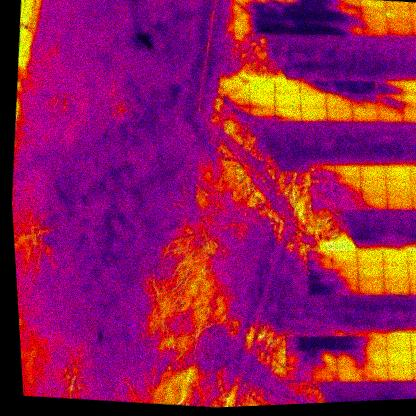Diode: (384, 8, 411, 25)
Hotspot: (333, 177, 363, 197), (309, 177, 337, 197), (308, 163, 336, 181)
Normal: (386, 362, 415, 383), (355, 261, 385, 281), (382, 277, 411, 297), (359, 177, 388, 197), (333, 162, 362, 182), (358, 163, 387, 183), (335, 365, 364, 385), (385, 191, 414, 210), (383, 333, 412, 352), (298, 104, 328, 122), (330, 247, 358, 266), (360, 192, 388, 211), (385, 348, 413, 367), (357, 277, 384, 296), (382, 262, 409, 281), (350, 106, 380, 123), (385, 178, 413, 196), (248, 90, 276, 108), (359, 8, 387, 26), (325, 105, 354, 122), (298, 91, 327, 108), (384, 165, 411, 183), (274, 90, 302, 107), (248, 78, 276, 95), (273, 77, 301, 94), (381, 248, 407, 266), (386, 21, 413, 38), (361, 21, 389, 37), (357, 248, 383, 265), (359, 0, 386, 13), (398, 78, 416, 97), (400, 106, 416, 124), (407, 167, 416, 183), (408, 9, 416, 26), (410, 23, 416, 38)
Shadow: (334, 347, 365, 369), (307, 276, 336, 299), (309, 347, 339, 369), (284, 347, 313, 369), (303, 247, 333, 268), (360, 362, 389, 383), (334, 333, 364, 353), (285, 364, 313, 385), (309, 365, 338, 385), (272, 103, 302, 122), (323, 90, 353, 109), (310, 192, 338, 212), (284, 333, 312, 353), (305, 262, 334, 281), (248, 104, 277, 123), (350, 91, 379, 110), (309, 333, 338, 352), (333, 276, 360, 296), (374, 90, 402, 109), (258, 17, 286, 36), (336, 19, 364, 38), (221, 103, 250, 121), (376, 105, 405, 123), (297, 78, 326, 96), (309, 20, 338, 38), (332, 261, 359, 280), (335, 192, 362, 211), (374, 77, 402, 95), (258, 4, 286, 22), (324, 78, 353, 95), (223, 90, 250, 108), (284, 18, 311, 36), (234, 5, 261, 23), (361, 348, 387, 366), (360, 333, 386, 351), (309, 7, 338, 23), (223, 77, 250, 94), (350, 78, 377, 95), (335, 7, 362, 24), (233, 18, 260, 34), (285, 5, 311, 21), (335, 0, 362, 12), (399, 93, 416, 111), (310, 0, 337, 11), (233, 0, 260, 9), (259, 0, 288, 8), (286, 0, 311, 9)
